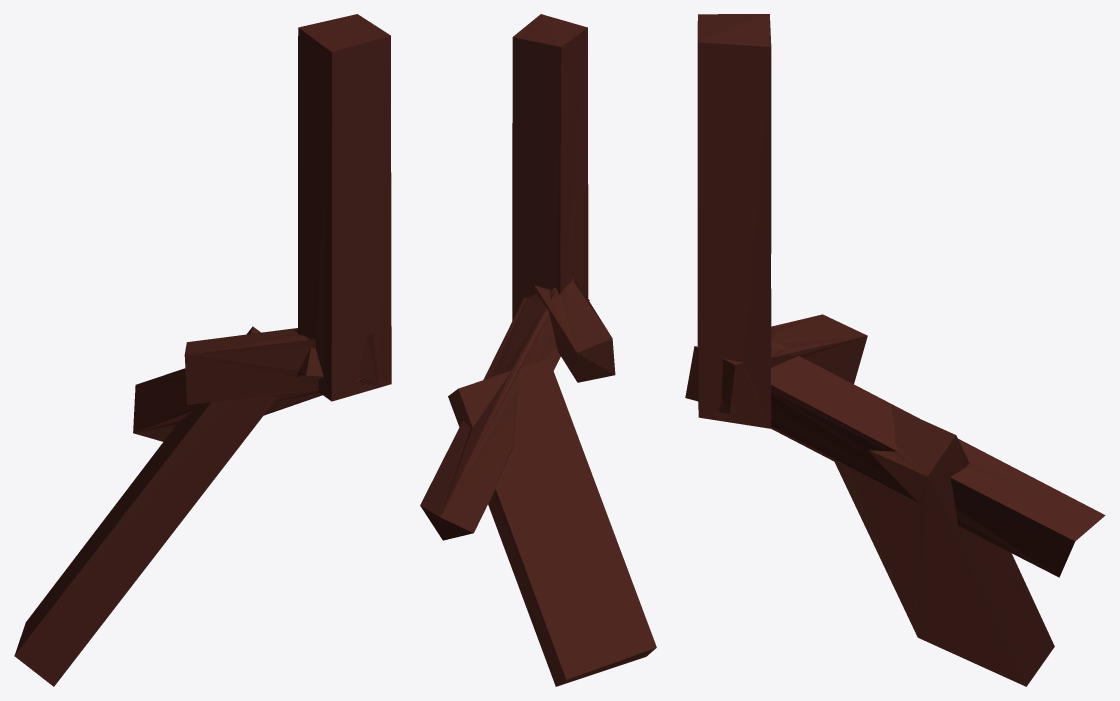
3 renders of one model, left to right at view 1: azimuth 30°, elevation 25°; view 2: azimuth 150°, elevation 25°; view 3: azimuth 270°, elevation 25°, orthographic. The views are drawn at different scales.
Visible parts, largest first — view 1: 807_Cube.3252; view 2: 807_Cube.3252; view 3: 807_Cube.3252.
Part boxes in pixels (left/top/right/bottom): 807_Cube.3252: left=14, top=14, right=391, bottom=686; 807_Cube.3252: left=420, top=14, right=656, bottom=686; 807_Cube.3252: left=685, top=14, right=1105, bottom=686.
Size of the model in its own units: 9.67 by 23.43 by 12.15.
